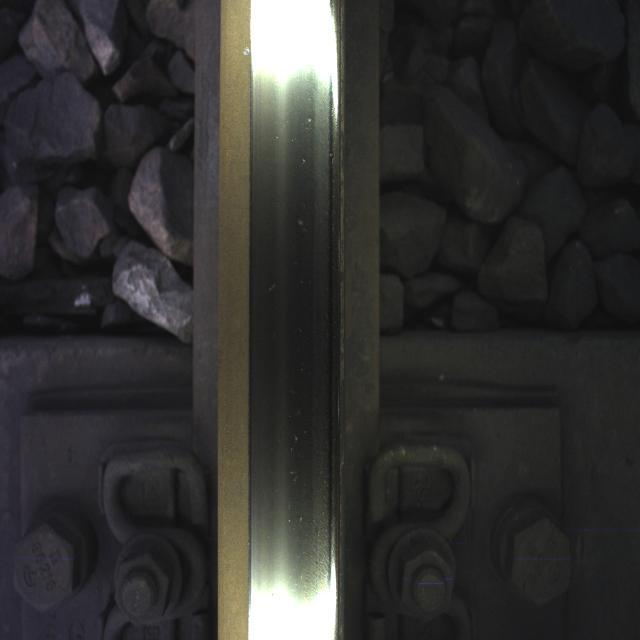break: (249, 58, 330, 582)
